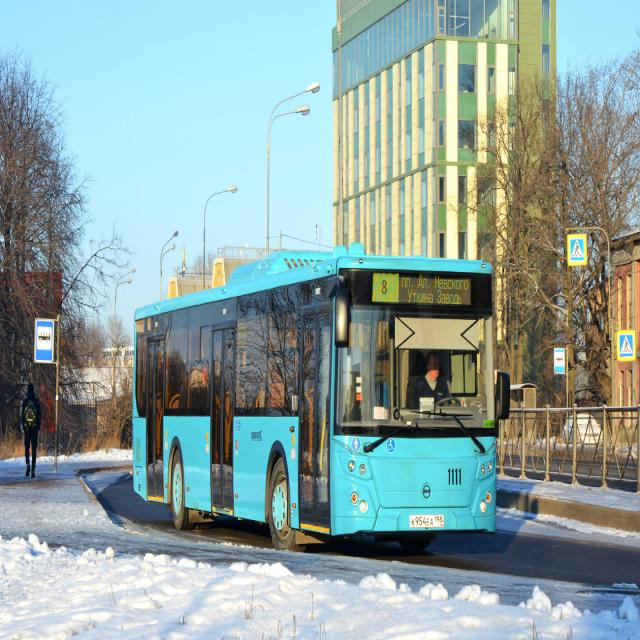number-of-bus: (379, 276, 392, 299)
